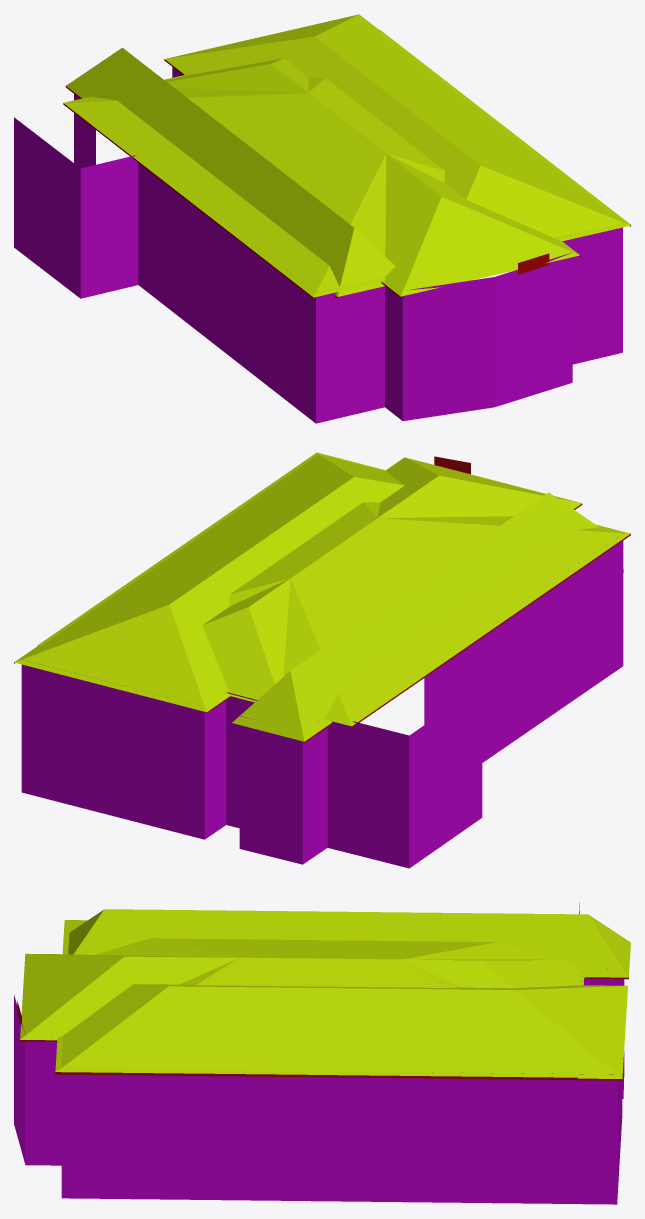
File: vzc_57.glb
The picture shows the model from 3 angles, top to bottom: view 1: azimuth 30°, elevation 25°; view 2: azimuth 150°, elevation 25°; view 3: azimuth 270°, elevation 25°; orthographic projection. The views are drawn at different scales.
Visible parts, largest first — view 1: vzc_57; view 2: vzc_57; view 3: vzc_57.
Boxes of the visible parts, x1,y1,x2,y2 form: vzc_57: (14,14,630,423); vzc_57: (14,452,630,868); vzc_57: (14,902,630,1204).
Size of the model in its own units: 29.61 by 13 by 43.
